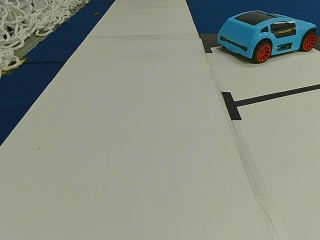car: (217, 10, 317, 62)
